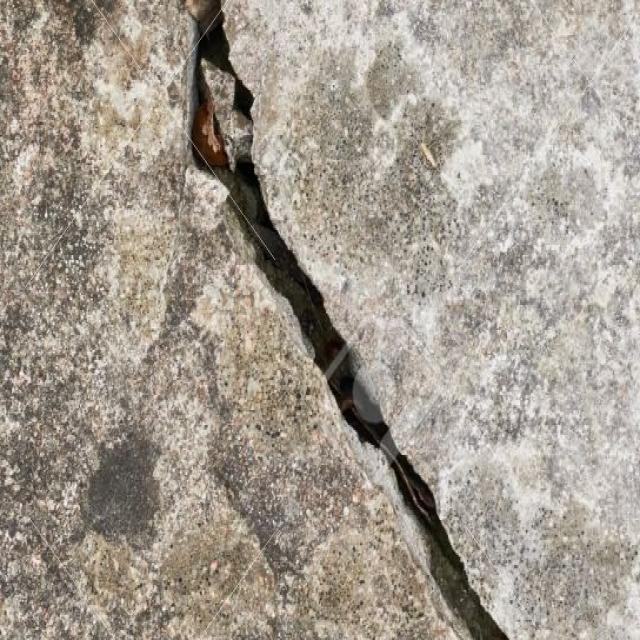Diagonal: (142, 0, 524, 640)
